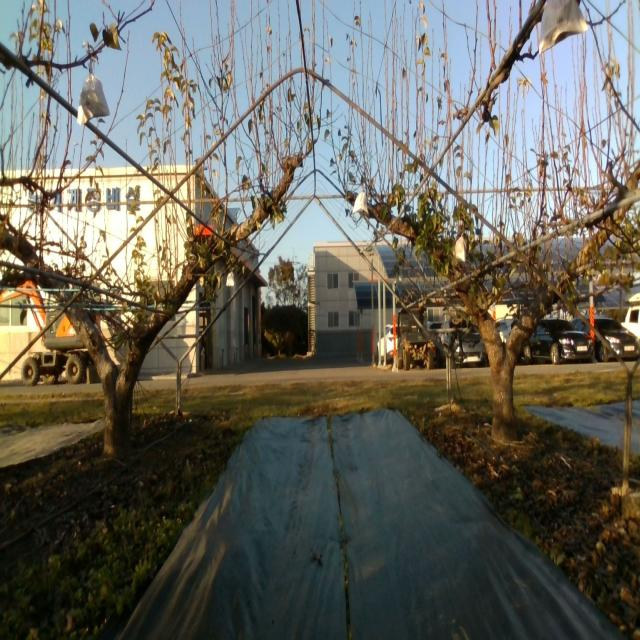pearbags: (538, 0, 588, 56), (74, 62, 110, 127), (351, 191, 369, 216), (455, 232, 467, 262)
